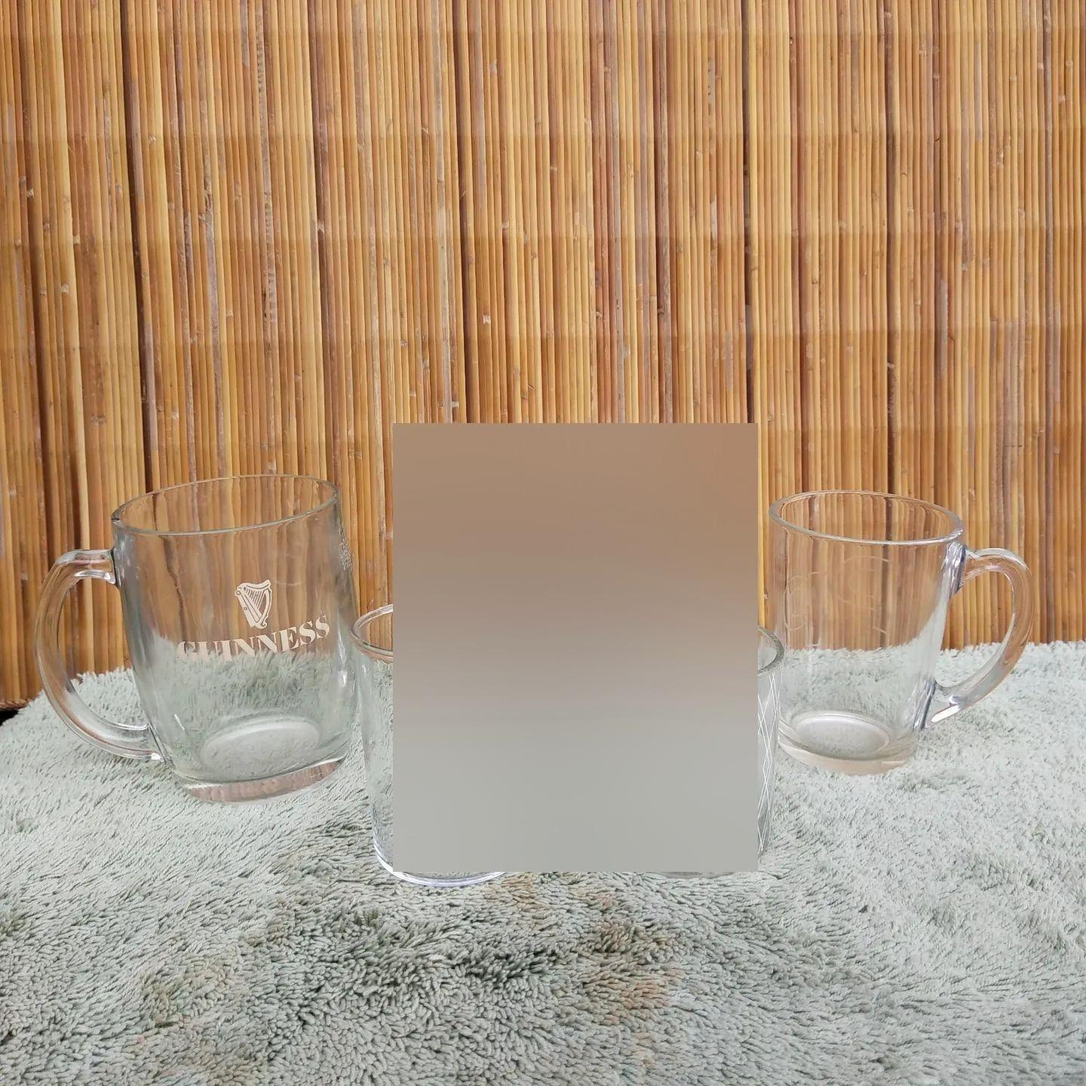glass-mug: (29, 464, 361, 790), (768, 475, 1043, 778)
